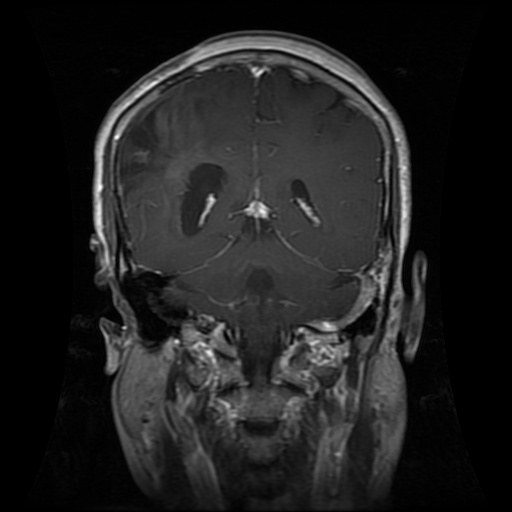glioma: (115, 85, 231, 236)
